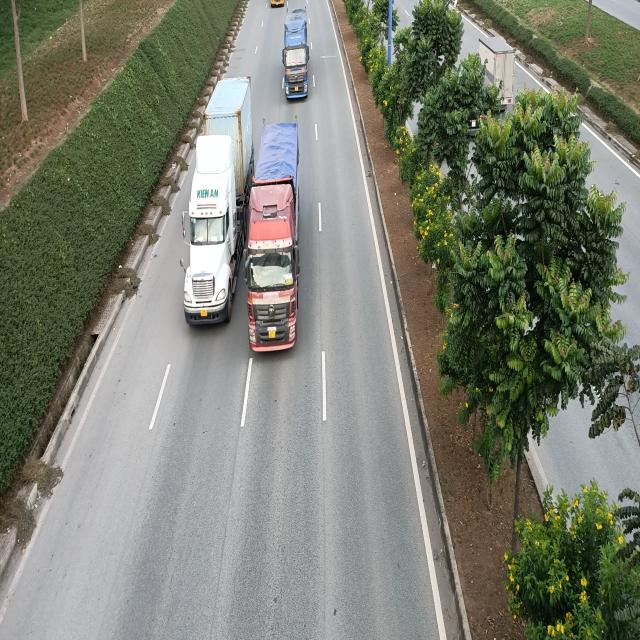container: (178, 74, 254, 327), (243, 114, 299, 348), (282, 5, 310, 99)
